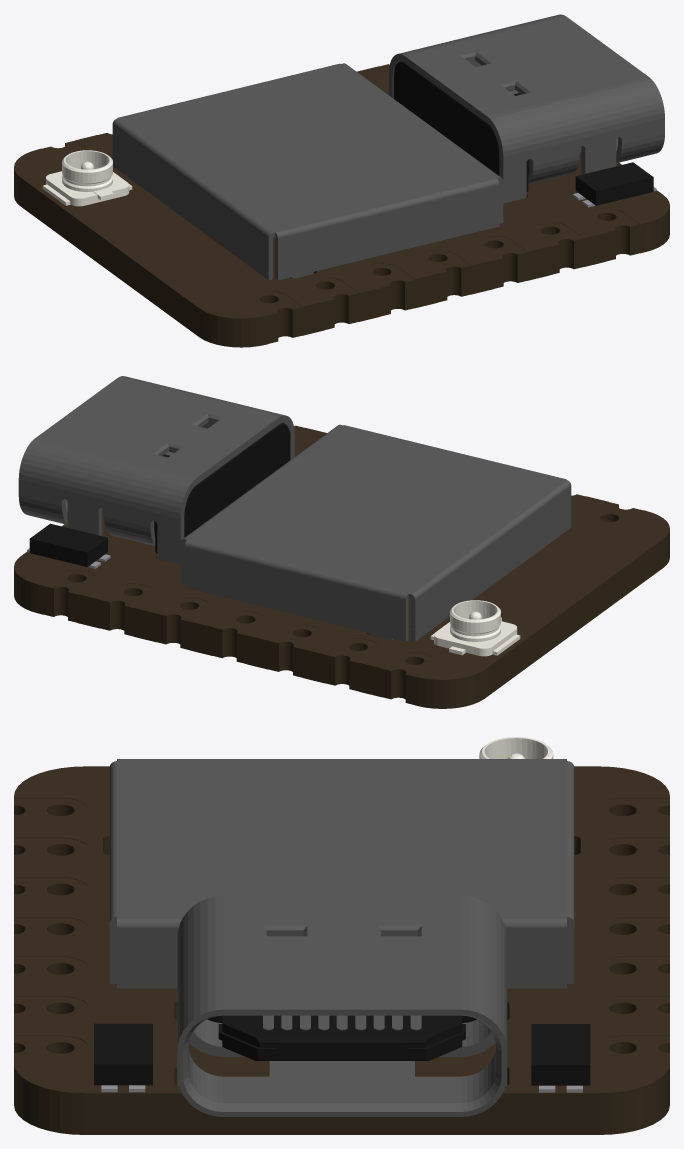
File: seeed-xiao-esp32s3.glb
The picture shows the model from 3 angles, top to bottom: view 1: azimuth 30°, elevation 25°; view 2: azimuth 150°, elevation 25°; view 3: azimuth 270°, elevation 25°; orthographic projection. The views are drawn at different scales.
Parts seen in each view (by area): view 1: seeed-xiao-esp32s3; view 2: seeed-xiao-esp32s3; view 3: seeed-xiao-esp32s3.
Part boxes in pixels (box(x1,y1,x2,y2)): seeed-xiao-esp32s3: box(14, 14, 669, 347); seeed-xiao-esp32s3: box(14, 376, 669, 708); seeed-xiao-esp32s3: box(14, 737, 669, 1134).
Bounding box in the file's own units: 22.48 × 4.46 × 17.78.
